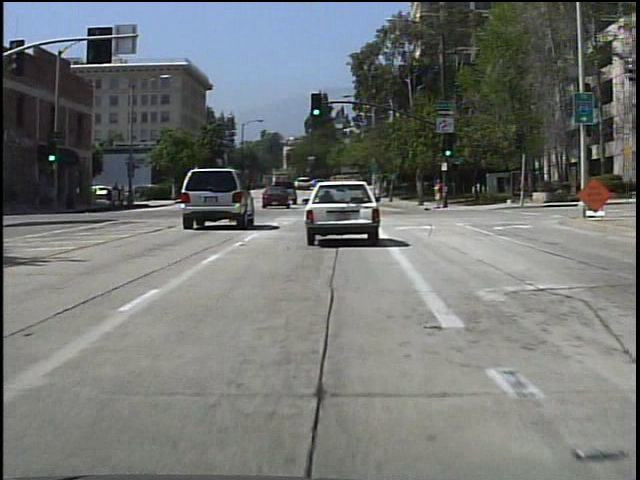person: (429, 174, 445, 209), (110, 179, 122, 209), (125, 182, 126, 209)
